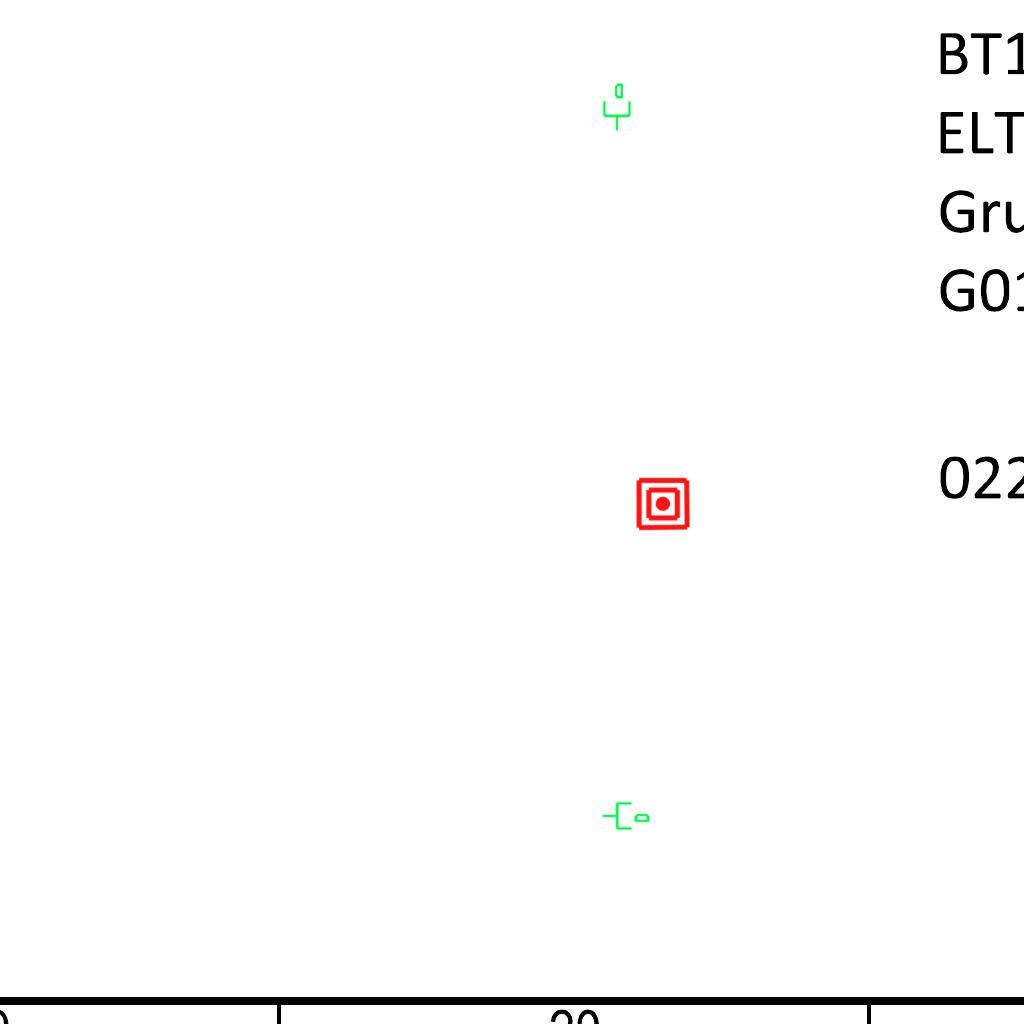Datenanschluss_einfach: (601, 798, 651, 832), (599, 82, 633, 132)
NAM-Nichtautomatischer_Melder: (635, 476, 691, 532)
